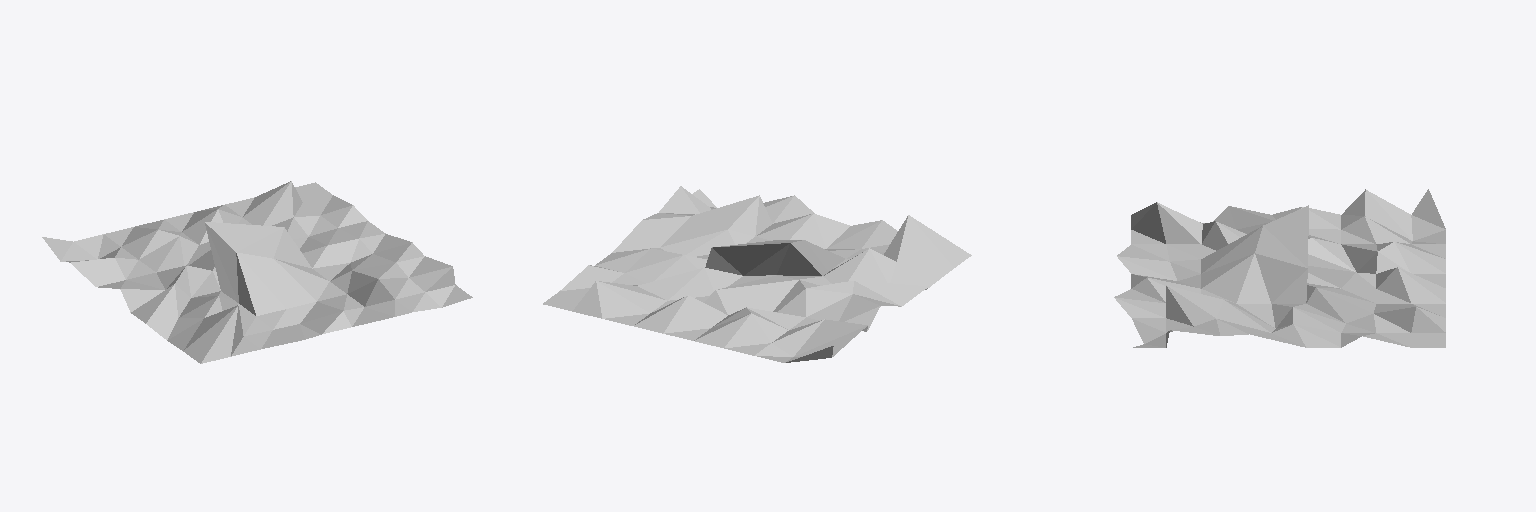
File: tree.obj
3 views of the same model, side by side, from view 1: azimuth 30°, elevation 25°; view 2: azimuth 150°, elevation 25°; view 3: azimuth 270°, elevation 25° (orthographic).
Visible parts, largest first — view 1: Grid_Grid.001; view 2: Grid_Grid.001; view 3: Grid_Grid.001.
Boxes of the visible parts, box(x1,y1,x2,y2) form: Grid_Grid.001: box(42, 181, 472, 363); Grid_Grid.001: box(543, 186, 971, 362); Grid_Grid.001: box(1114, 189, 1445, 347).
Size of the model in its own units: 1.53 by 0.3335 by 1.54.